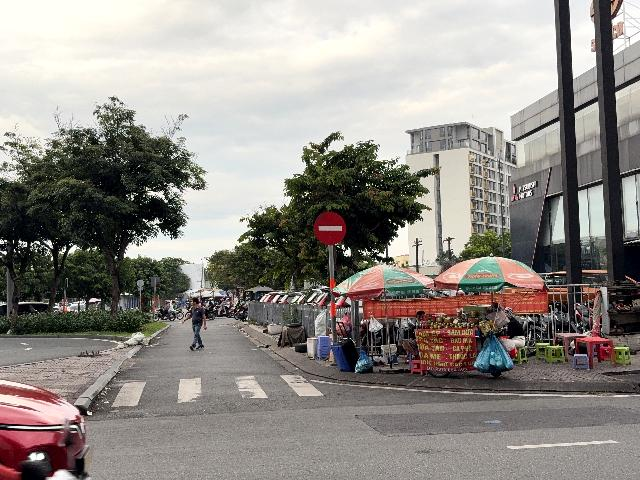cam-di-nguoc-chieu: (314, 212, 346, 245)
